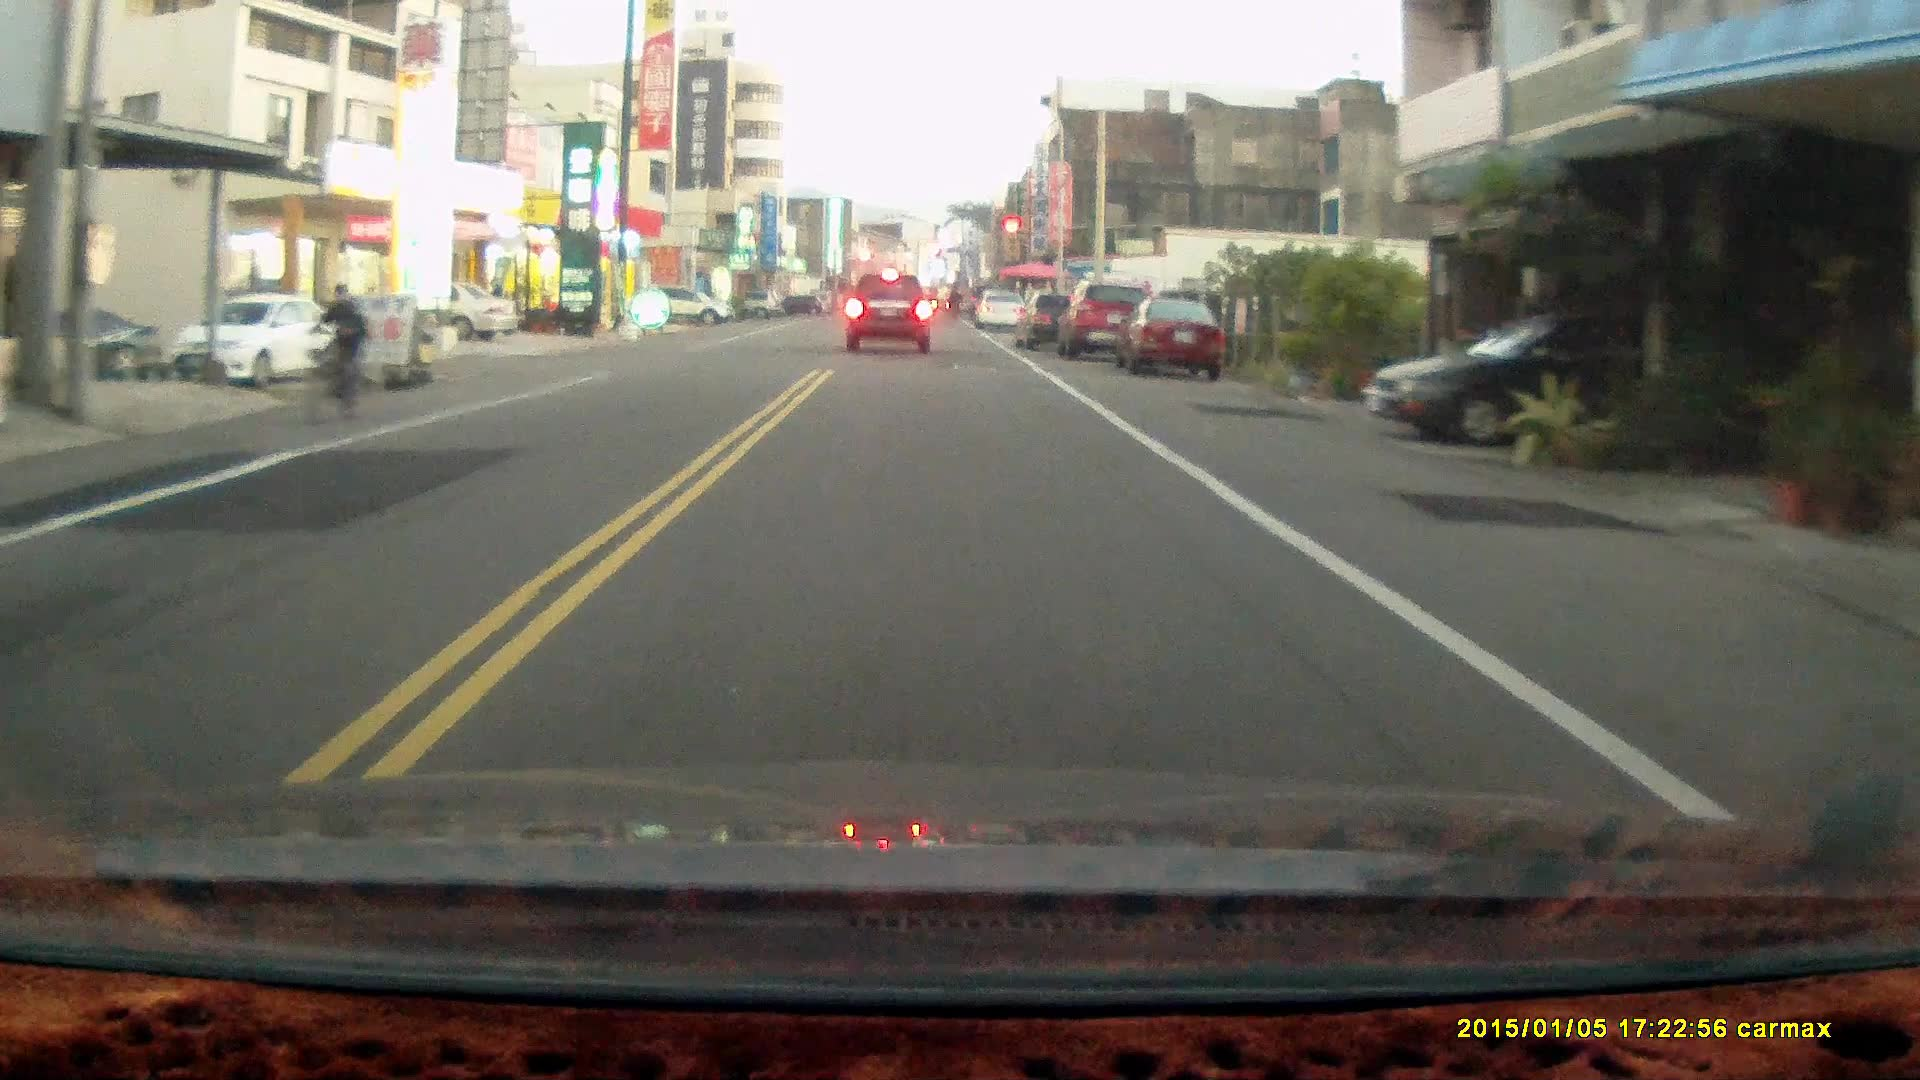rider: (300, 276, 364, 432)
vehicle: (1366, 307, 1758, 444), (174, 289, 347, 384), (352, 277, 523, 341), (1110, 297, 1233, 386), (844, 268, 936, 353), (1059, 283, 1158, 361), (647, 282, 730, 327)
